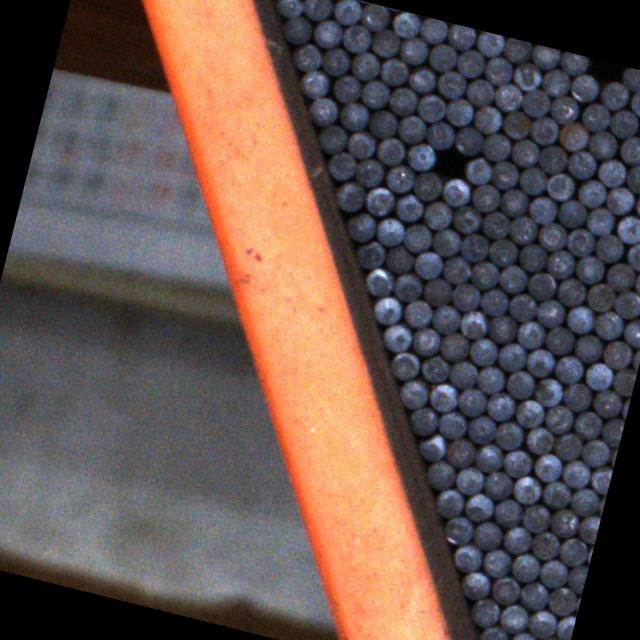tool: (404, 403, 440, 438), (399, 220, 434, 256), (381, 241, 415, 277), (428, 300, 462, 336), (361, 183, 395, 218), (443, 436, 478, 470), (412, 90, 447, 124), (436, 329, 471, 363), (494, 339, 528, 374), (542, 322, 576, 357), (296, 66, 330, 100), (422, 458, 456, 492), (336, 98, 370, 132), (408, 324, 442, 358), (496, 601, 530, 635), (452, 124, 486, 158), (534, 142, 568, 176), (594, 155, 628, 189), (468, 180, 502, 214), (534, 219, 568, 253), (562, 224, 596, 258), (428, 225, 462, 259), (495, 262, 529, 296), (484, 311, 518, 345), (522, 344, 556, 378), (530, 374, 564, 408), (464, 412, 498, 446), (528, 527, 562, 561), (600, 338, 634, 372), (426, 379, 459, 414), (279, 12, 312, 46), (305, 94, 338, 128), (379, 321, 413, 354), (388, 348, 422, 381), (318, 44, 352, 77), (330, 70, 363, 104), (351, 154, 384, 188), (372, 215, 406, 248), (461, 490, 495, 523), (479, 546, 513, 579), (547, 92, 580, 126), (577, 100, 611, 133), (356, 76, 389, 110), (441, 94, 474, 128), (555, 119, 589, 152), (564, 147, 598, 180), (486, 158, 520, 191), (438, 175, 472, 208), (420, 198, 453, 232), (478, 208, 512, 241), (516, 240, 549, 274), (467, 258, 500, 292), (554, 274, 587, 308), (421, 274, 454, 308), (476, 284, 509, 318), (513, 317, 546, 351), (466, 334, 499, 368), (560, 379, 593, 413), (454, 384, 487, 418), (570, 407, 603, 441), (481, 468, 514, 502), (500, 522, 533, 556), (536, 557, 570, 590), (545, 583, 578, 617), (591, 230, 624, 264), (453, 462, 485, 497), (365, 107, 398, 140), (409, 169, 442, 202), (440, 253, 473, 286), (448, 280, 481, 313), (483, 389, 516, 422), (473, 441, 506, 474), (567, 485, 600, 518), (602, 260, 635, 293), (324, 148, 358, 180), (334, 179, 366, 213), (371, 292, 403, 326), (458, 568, 492, 600), (401, 296, 433, 330), (386, 84, 418, 118), (526, 114, 560, 146), (542, 170, 576, 202), (495, 186, 529, 218), (506, 212, 538, 246), (544, 246, 576, 280), (506, 290, 538, 324), (552, 352, 584, 386), (504, 367, 536, 401), (491, 418, 523, 452), (530, 450, 564, 482), (510, 472, 542, 506), (548, 505, 580, 539), (492, 496, 524, 530), (583, 204, 615, 238), (556, 534, 588, 568), (572, 252, 604, 286), (584, 279, 616, 313), (316, 122, 348, 155), (344, 210, 376, 243), (362, 265, 394, 298), (397, 378, 430, 410), (451, 541, 484, 573), (418, 352, 451, 384), (488, 574, 521, 606), (369, 26, 402, 58), (348, 49, 380, 82), (491, 80, 524, 112), (518, 86, 551, 118), (606, 106, 638, 139), (422, 118, 454, 151), (479, 131, 512, 163), (403, 140, 436, 172), (382, 161, 414, 194), (525, 193, 557, 226), (457, 231, 489, 264), (524, 269, 556, 302), (446, 358, 478, 391), (512, 396, 544, 429), (542, 402, 574, 435), (578, 436, 610, 469), (591, 308, 624, 340), (534, 296, 565, 330), (290, 41, 322, 73), (354, 238, 386, 270), (416, 430, 448, 462), (442, 513, 474, 545), (468, 596, 500, 628), (344, 128, 376, 160), (436, 408, 468, 440), (471, 520, 503, 552), (397, 34, 429, 66), (454, 47, 486, 79), (482, 54, 514, 86), (434, 68, 466, 100), (510, 60, 542, 92), (539, 67, 571, 99), (567, 71, 599, 103), (471, 104, 503, 136), (586, 128, 618, 160), (516, 164, 548, 196), (461, 154, 493, 186), (374, 135, 406, 167), (556, 198, 588, 230), (450, 203, 482, 235), (486, 236, 518, 268), (410, 248, 442, 280), (457, 308, 489, 340), (474, 364, 506, 396), (540, 478, 572, 510), (520, 502, 552, 534), (574, 177, 606, 209), (602, 183, 634, 215), (525, 608, 557, 640), (564, 302, 596, 334), (572, 331, 604, 363), (590, 387, 622, 419), (312, 16, 343, 49), (339, 23, 372, 54), (551, 430, 582, 463), (560, 456, 591, 489), (434, 486, 465, 518), (426, 41, 458, 72), (500, 109, 532, 140), (500, 447, 532, 478), (516, 579, 548, 610), (583, 359, 614, 391), (358, 1, 389, 32), (392, 270, 422, 302), (377, 56, 409, 86), (396, 113, 426, 145), (394, 191, 424, 223), (510, 551, 540, 583), (610, 287, 640, 319), (416, 16, 447, 46), (598, 79, 628, 110), (509, 138, 540, 168), (390, 9, 420, 39), (464, 77, 494, 107), (524, 425, 554, 455), (444, 22, 476, 50), (329, 0, 362, 27), (613, 212, 640, 245), (599, 414, 625, 448), (615, 132, 640, 166), (406, 66, 436, 94), (575, 511, 601, 543), (474, 31, 504, 58), (500, 37, 530, 64), (610, 366, 637, 396), (530, 44, 560, 70), (558, 50, 588, 76), (564, 561, 588, 593), (588, 464, 613, 494), (302, 0, 334, 22), (272, 0, 306, 20), (619, 316, 640, 347), (475, 621, 509, 640), (621, 161, 640, 195), (553, 612, 576, 640), (623, 238, 640, 271), (619, 66, 640, 92), (627, 87, 640, 119), (506, 629, 539, 640), (631, 267, 640, 299), (633, 190, 640, 222)
void: (426, 148, 466, 178), (580, 56, 624, 83)
